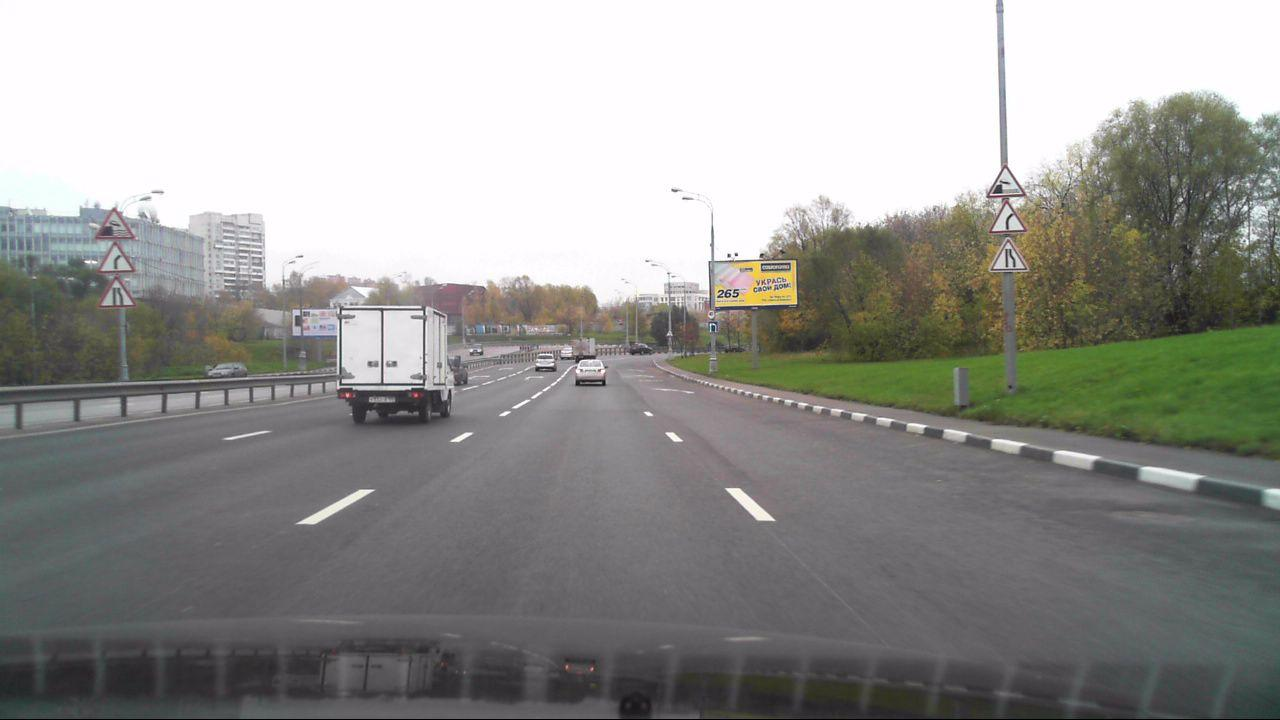1_10: (987, 165, 1024, 196)
1_11_1: (989, 200, 1029, 236)
1_20_2: (989, 236, 1029, 273)
3_24: (707, 309, 718, 319)
5_15_5: (707, 321, 721, 332)
